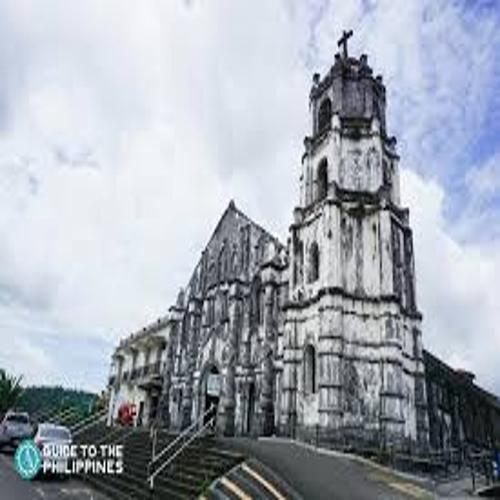Daraga Church: (161, 22, 434, 469)
